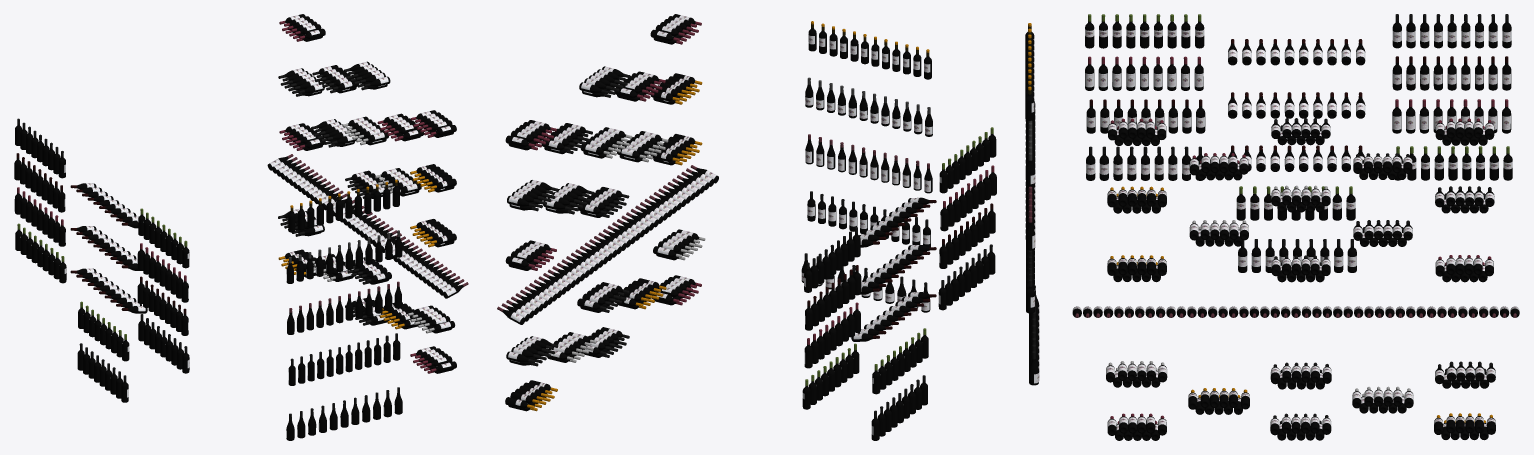
Rendered from L2_B1_Wine.fbx.
3 renders of one model, left to right at view 1: azimuth 30°, elevation 25°; view 2: azimuth 150°, elevation 25°; view 3: azimuth 270°, elevation 25°, orthographic. The views are drawn at different scales.
Parts seen in each view (by area): view 1: L2_B1_WineBottle16, L2_B1_WineBottle14.001, L2_B1_WineBottle11; view 2: L2_B1_WineBottle16, L2_B1_WineBottle14.001, L2_B1_WineBottle11; view 3: L2_B1_WineBottle16, L2_B1_WineBottle14.001, L2_B1_WineBottle11.
Boxes of the visible parts, x1,y1,x2,y2 form: L2_B1_WineBottle16: (267, 14, 468, 373); L2_B1_WineBottle14.001: (14, 118, 189, 402); L2_B1_WineBottle11: (286, 179, 402, 440); L2_B1_WineBottle16: (497, 14, 718, 411); L2_B1_WineBottle14.001: (802, 127, 996, 440); L2_B1_WineBottle11: (801, 21, 932, 312); L2_B1_WineBottle16: (1072, 118, 1519, 440); L2_B1_WineBottle14.001: (1085, 14, 1512, 272); L2_B1_WineBottle11: (1025, 23, 1039, 385).
Bounding box in the file's own units: 3.5 × 2.91 × 4.2.
26 materials, 16 textured.
